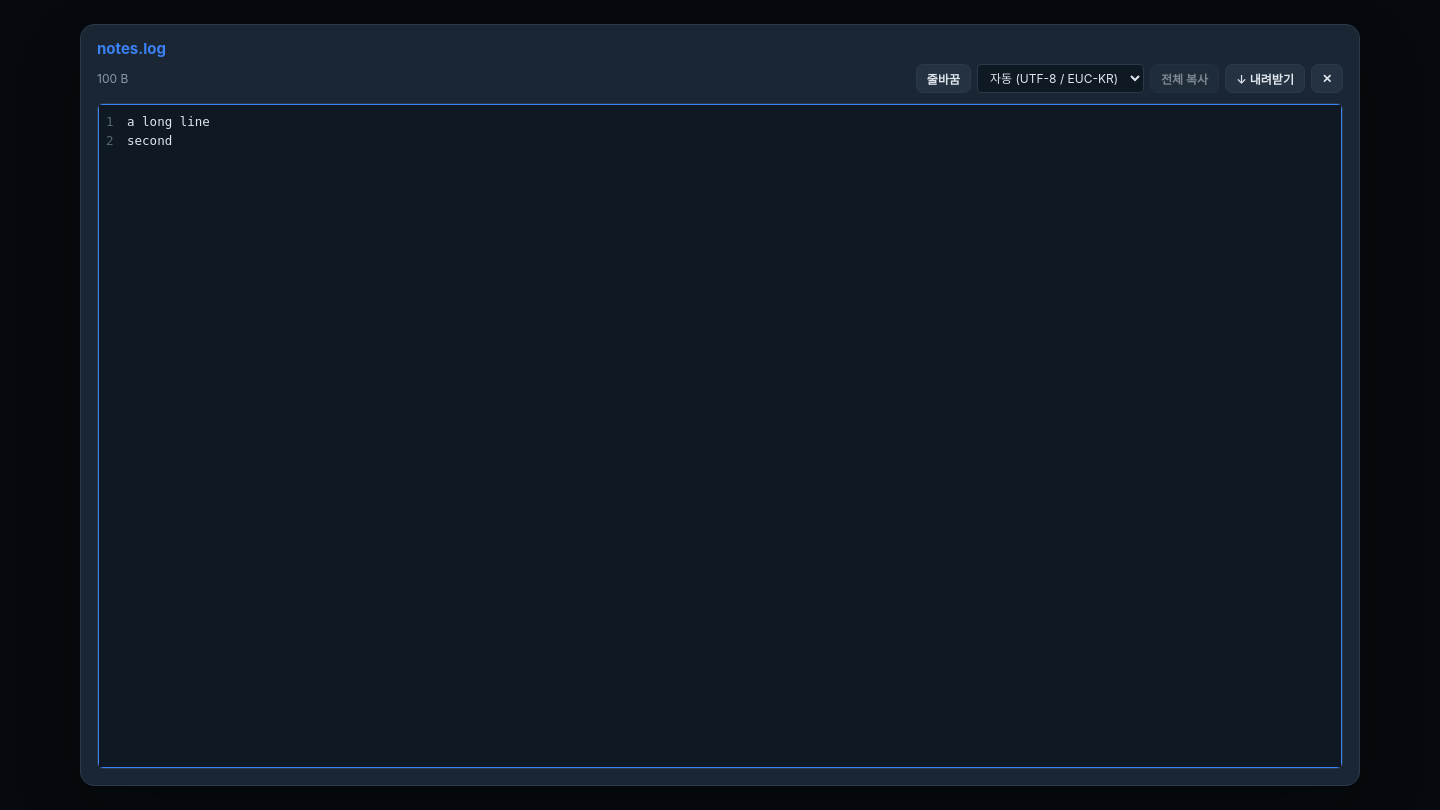
it: W wraps long lines and is remembered; Copy all copies the text
Press w in the dialog
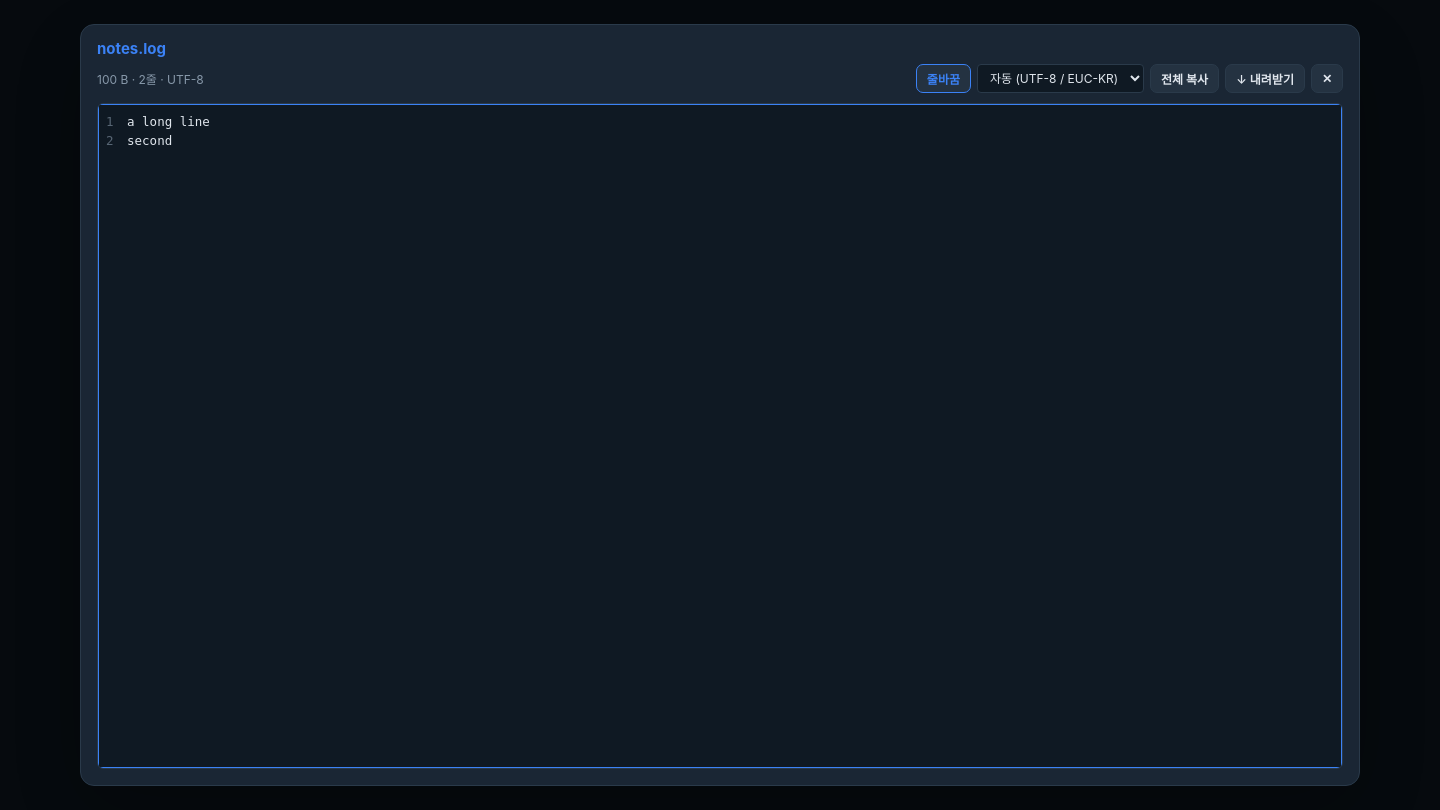
Click the button "전체 복사" at [1185, 78], box [1150,64,1219,93]
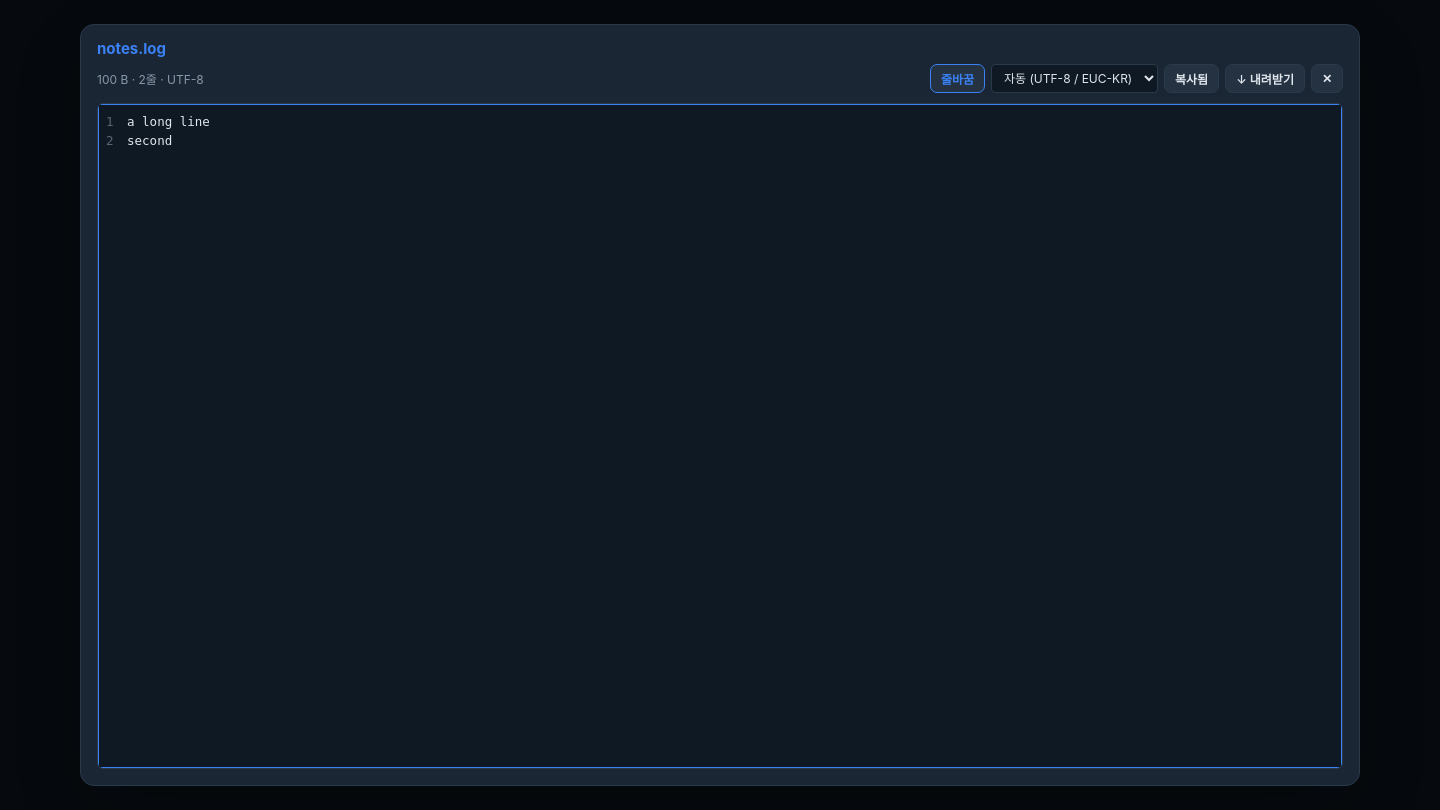
Expected: the button "복사됨" is shown, [1164,64,1219,93]
